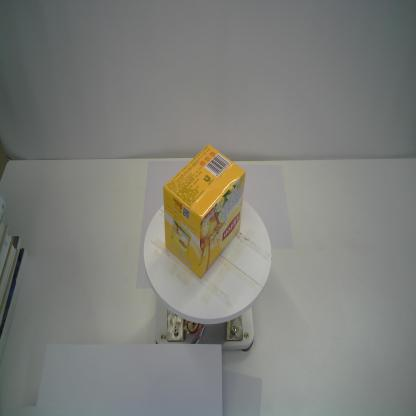Instant Drink: (162, 142, 247, 281)
